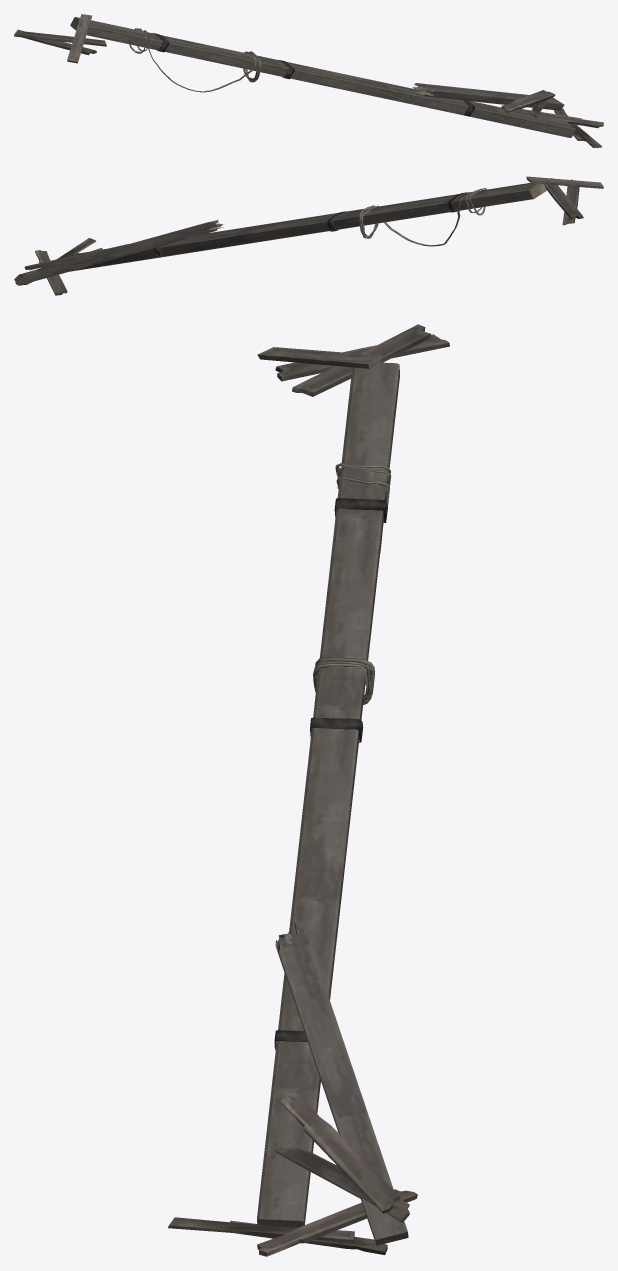
File: AEG023_478out-transformed.glb
The picture shows the model from 3 angles, top to bottom: view 1: azimuth 30°, elevation 25°; view 2: azimuth 150°, elevation 25°; view 3: azimuth 270°, elevation 25°; orthographic projection. The views are drawn at different scales.
Visible parts, largest first — view 1: default; view 2: default; view 3: default.
Part boxes in pixels (x1,y1,x2,y2): default: (14,14,603,147); default: (14,176,603,295); default: (168,324,449,1256).
Bounding box in the file's own units: 14.74 × 5.47 × 3.26.
1 material, 1 textured.
